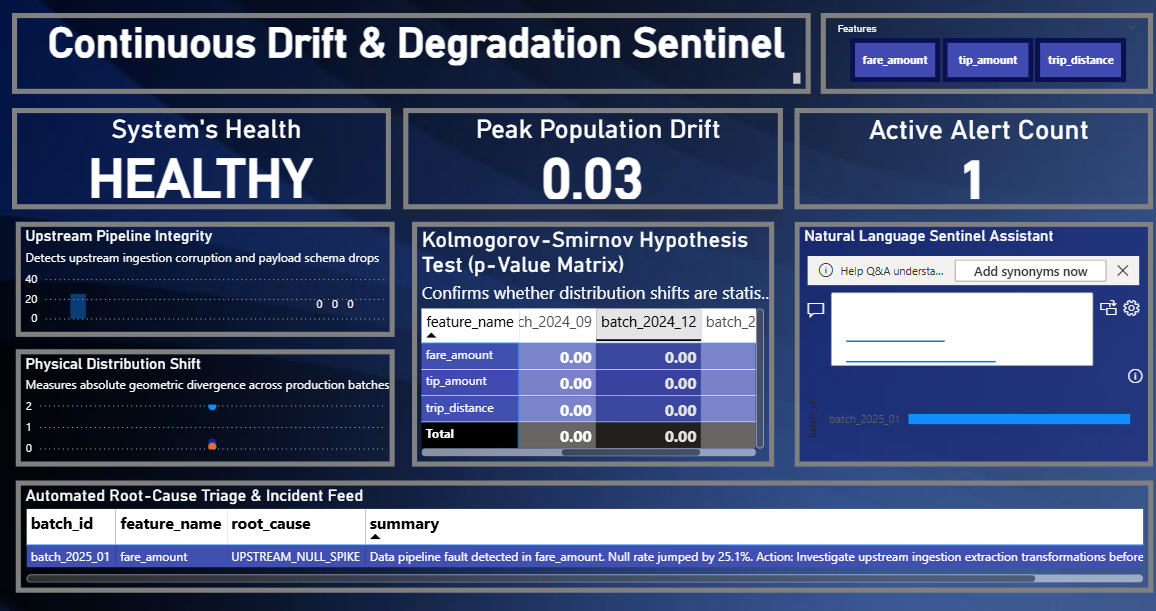

This screenshot's page, from the dashboard's own definition file:
{"tool":"powerbi","page":{"name":"Page 1","canvas":[1280,720],"ordinal":0},"visuals":[{"type":"card","title":"Peak Population Drift","fields":{"Values":["drift_metrics_summary.Max PSI"]},"box":[446,164.7,417.2,111.1],"z":0},{"type":"card","title":"System''s Health","fields":{"Values":["drift_metrics_summary.Model Health"]},"box":[16.5,164.7,415.8,111.1],"z":1000},{"type":"card","title":"Active Alert Count","fields":{"Values":["drift_incidents.Total Incidents"]},"box":[875.5,164.7,393.8,111.1],"z":2000},{"type":"clusteredColumnChart","title":"Upstream Pipeline Integrity","fields":{"Y":["Sum(drift_metrics_summary.null_percentage)"],"Category":["drift_metrics_summary.batch_id"],"Series":["drift_metrics_summary.feature_name"]},"box":[20.6,289.5,415.8,126.2],"z":3000},{"type":"tableEx","title":"Automated Root-Cause Triage & Incident Feed","fields":{"Values":["drift_incidents.batch_id","drift_incidents.feature_name","drift_incidents.root_cause","drift_incidents.summary"]},"box":[20.6,573.6,1248.7,123.5],"z":4000},{"type":"lineChart","title":"Physical Distribution Shift","fields":{"Category":["drift_metrics_summary.batch_id"],"Y":["Sum(drift_metrics_summary.wasserstein_dist)"],"Series":["drift_metrics_summary.feature_name"]},"box":[20.6,429.5,415.8,129],"z":5000},{"type":"pivotTable","title":"Kolmogorov-Smirnov Hypothesis Test (p-Value Matrix)","fields":{"Rows":["drift_metrics_summary.feature_name"],"Columns":["drift_metrics_summary.batch_id"],"Values":["Sum(drift_metrics_summary.ks_p_value)"]},"box":[455.6,289.5,397.9,269],"z":6000},{"type":"slicer","fields":{"Values":["drift_metrics_summary.feature_name"]},"box":[904.3,60.4,365,89.2],"z":7000},{"type":"textbox","title":"Continuous Drift & Degradation Sentinel","box":[16.5,60.4,876.8,89.2],"z":8000},{"type":"qnaVisual","title":"Natural Language Sentinel Assistant","box":[875.5,289.5,393.8,269],"z":9000}]}

Visuals, with their boxes in screenshot pixels (x1, y1, x2, y2):
"Peak Population Drift" card: 404/106/780/206
"System''s Health" card: 18/106/392/206
"Active Alert Count" card: 791/106/1145/206
"Upstream Pipeline Integrity" clusteredColumnChart: 22/218/396/332
"Automated Root-Cause Triage & Incident Feed" tableEx: 22/474/1145/585
"Physical Distribution Shift" lineChart: 22/344/396/460
"Kolmogorov-Smirnov Hypothesis Test (p-Value Matrix)" pivotTable: 413/218/771/460
slicer - drift_metrics_summary.feature_name: 817/12/1145/92
"Continuous Drift & Degradation Sentinel" textbox: 18/12/807/92
"Natural Language Sentinel Assistant" qnaVisual: 791/218/1145/460
